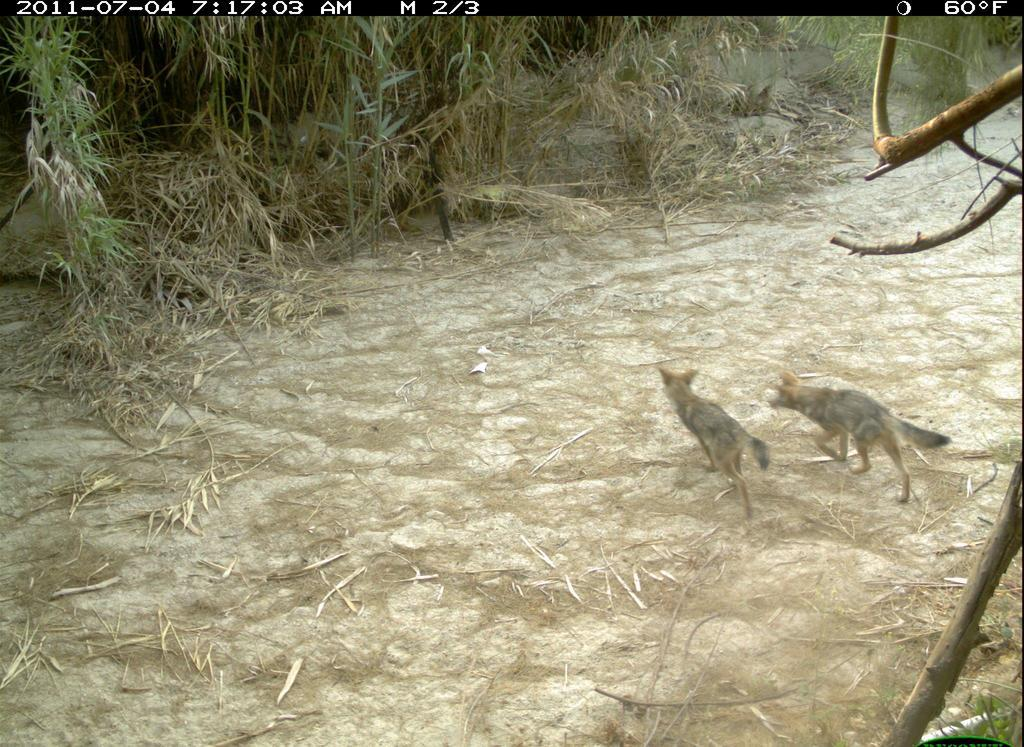coyote: (768, 363, 956, 508), (651, 355, 775, 527)
